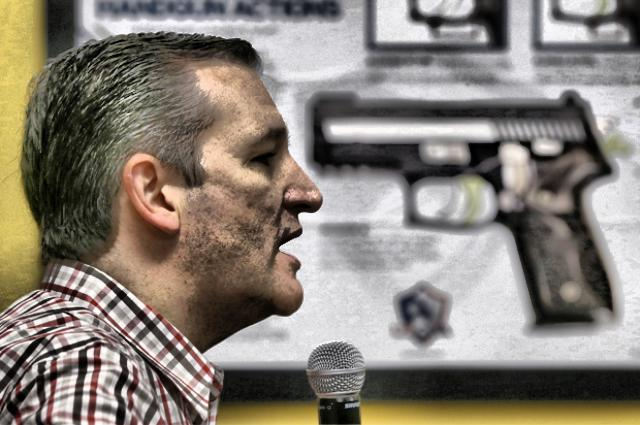pistol: (311, 97, 625, 325)
